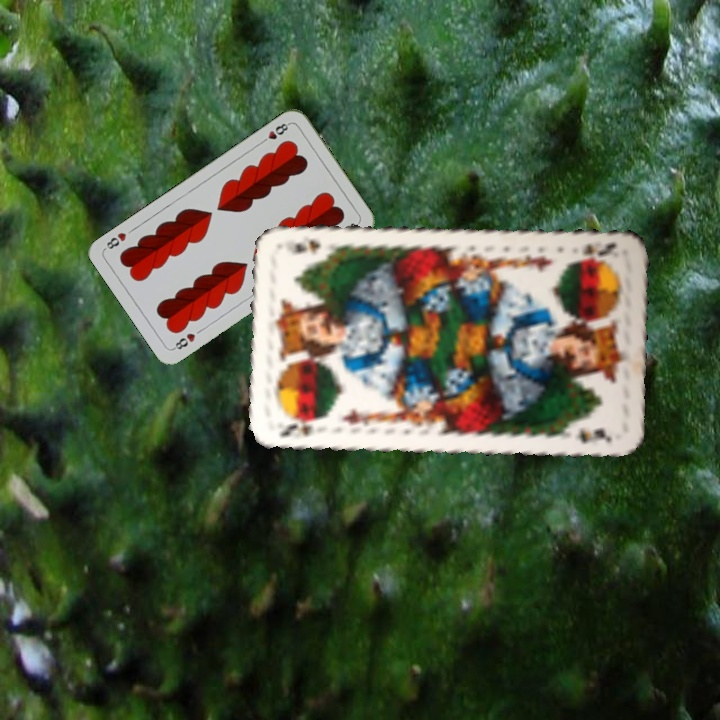H8: (257, 119, 293, 146), (169, 329, 198, 353)
SK: (275, 414, 327, 439), (570, 238, 619, 264)
